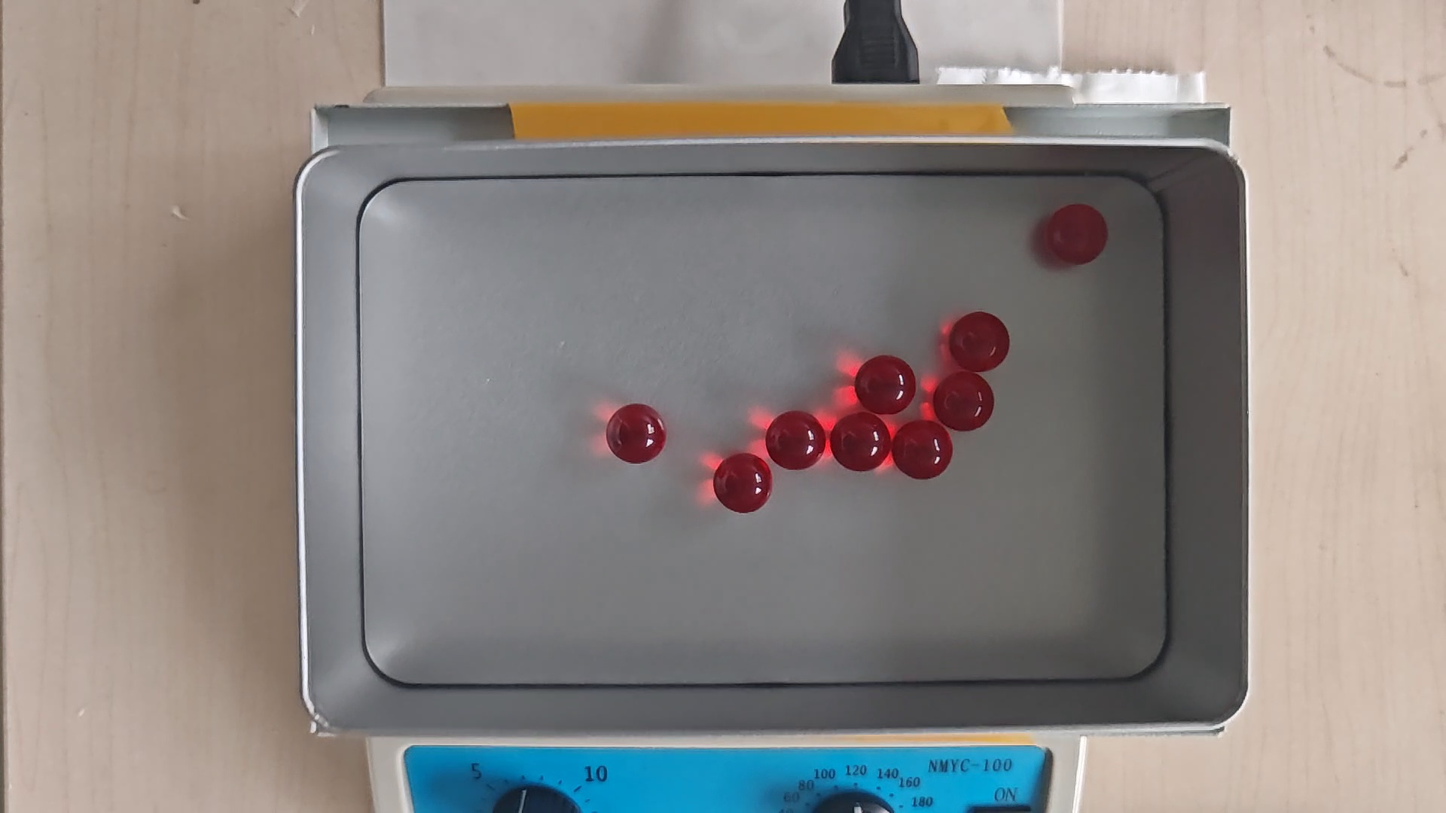ball: (855, 354, 918, 416), (1046, 203, 1107, 266), (607, 402, 667, 465), (950, 311, 1010, 373), (830, 411, 890, 473), (714, 452, 773, 515), (935, 372, 996, 432), (766, 410, 826, 471), (894, 420, 954, 481)
container: (355, 172, 1168, 682)
